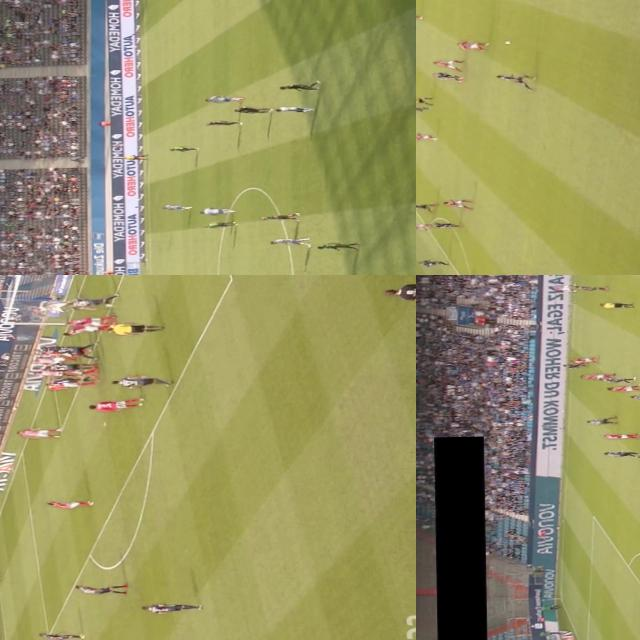ball: (501, 37, 515, 44)
player: (495, 71, 535, 90), (112, 374, 166, 388), (142, 600, 200, 612), (58, 342, 100, 358), (72, 582, 126, 594), (85, 398, 142, 409), (68, 295, 114, 308), (266, 234, 314, 246), (47, 497, 96, 508), (29, 300, 78, 311), (313, 239, 359, 250), (430, 57, 468, 70), (61, 326, 109, 336), (455, 38, 489, 52), (16, 427, 58, 438), (33, 365, 75, 376), (63, 317, 113, 326), (278, 80, 320, 90), (45, 380, 95, 388), (257, 212, 301, 221), (50, 361, 94, 370), (40, 630, 86, 638), (432, 68, 462, 80), (274, 105, 318, 113), (598, 373, 637, 382), (202, 94, 245, 102), (32, 355, 70, 364), (604, 383, 640, 392), (442, 198, 474, 208), (574, 282, 606, 292), (48, 376, 92, 383), (232, 106, 270, 114), (204, 118, 240, 126), (582, 416, 614, 425), (198, 220, 238, 227), (198, 206, 236, 213), (416, 130, 440, 141), (602, 450, 639, 457), (166, 144, 198, 152), (160, 202, 192, 210), (602, 431, 638, 438), (416, 201, 440, 211), (578, 372, 612, 379), (418, 258, 446, 266), (432, 222, 460, 228), (560, 362, 586, 368), (552, 284, 576, 290), (570, 357, 598, 362), (33, 344, 67, 348), (416, 10, 428, 21), (416, 221, 431, 228), (416, 104, 427, 112), (174, 272, 203, 275), (628, 392, 640, 399)
